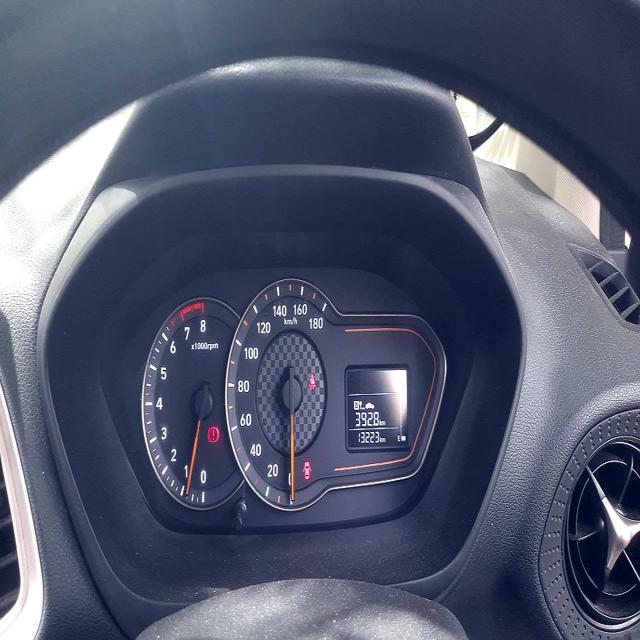odometer: (356, 427, 381, 447)
